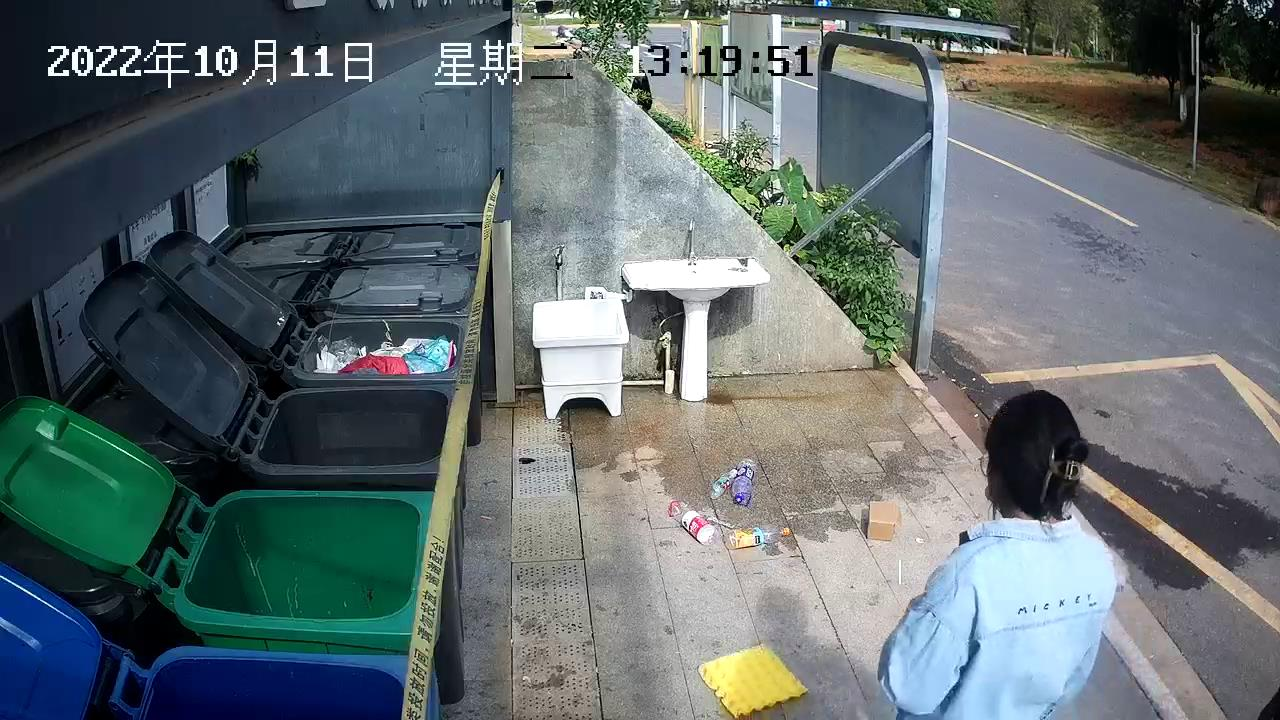suliaozhipin: (665, 494, 719, 551), (721, 523, 799, 553), (730, 454, 758, 508), (707, 464, 740, 502)
worker: (871, 387, 1124, 720)
zhizhipin: (696, 639, 813, 720), (864, 495, 909, 545)
